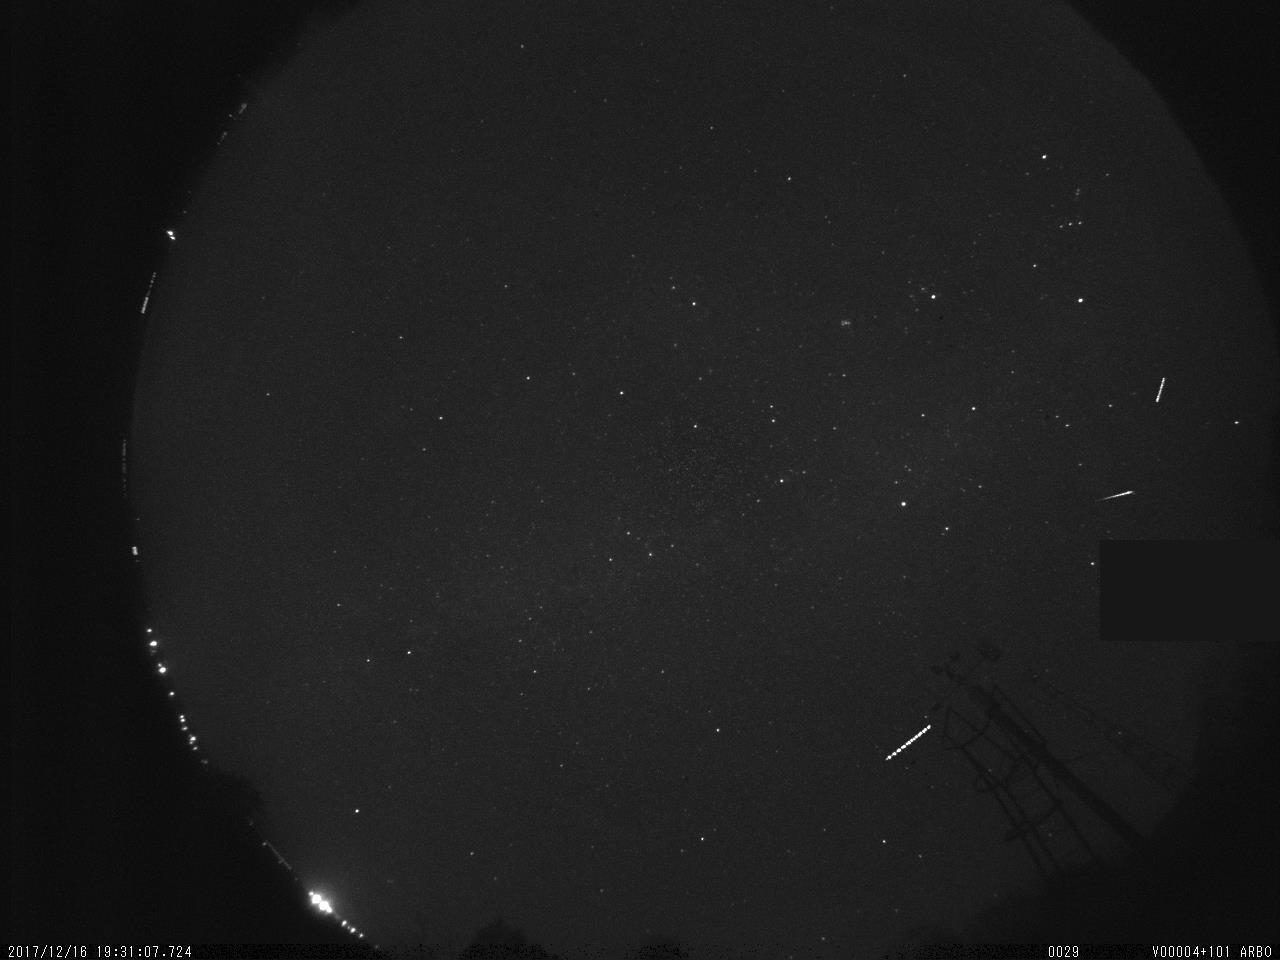meteor: (1090, 478, 1148, 507)
